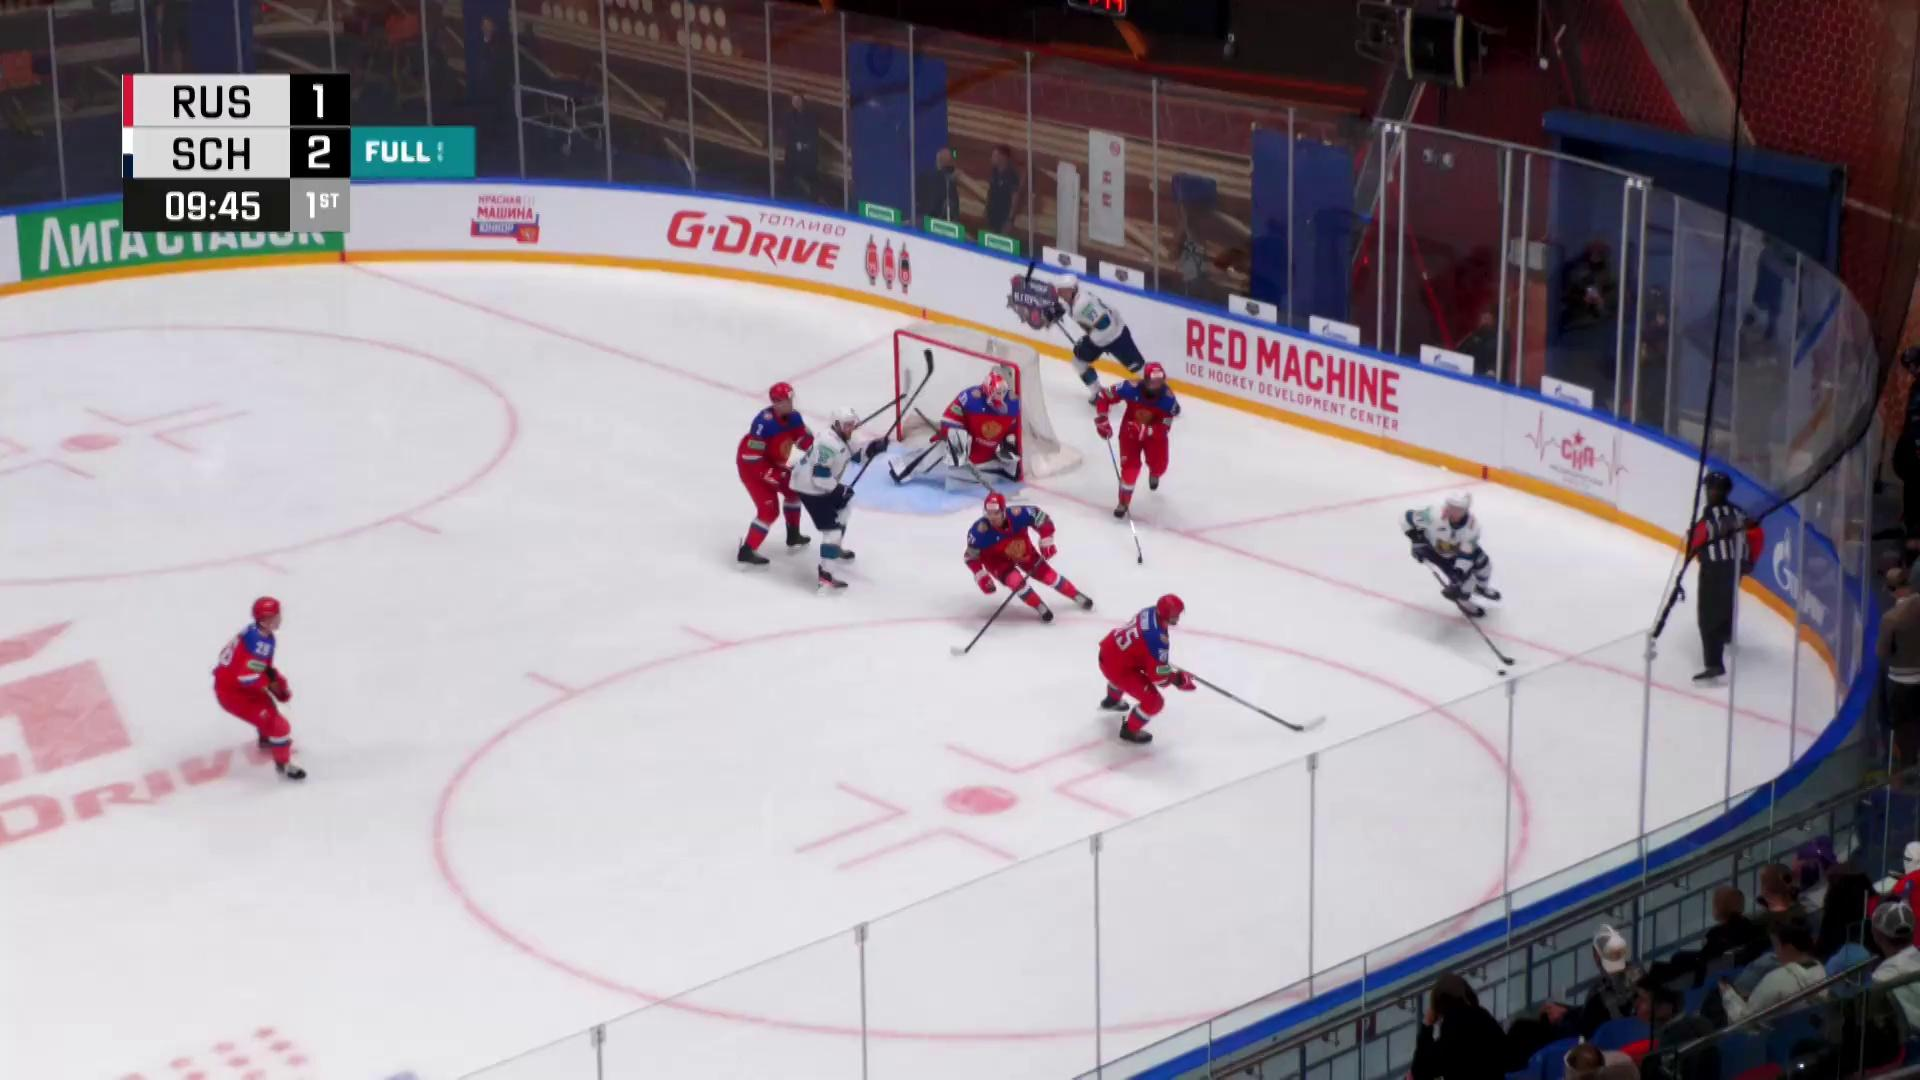ball: (1497, 669, 1509, 678)
